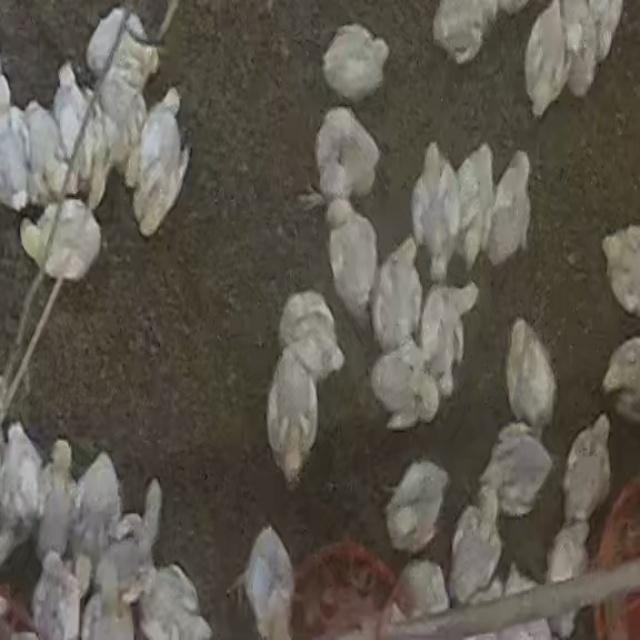chicken: (136, 92, 196, 234), (268, 348, 326, 488), (19, 199, 102, 280), (309, 104, 380, 198), (276, 291, 342, 392), (383, 457, 450, 555), (240, 522, 296, 637), (73, 450, 124, 574), (484, 429, 554, 519), (368, 342, 436, 434), (504, 317, 557, 434), (322, 200, 376, 312), (559, 417, 613, 528), (411, 144, 454, 280), (485, 149, 533, 268), (448, 503, 502, 606), (373, 239, 421, 354), (140, 564, 212, 640), (522, 2, 568, 119), (1, 424, 45, 544), (36, 440, 76, 570), (326, 28, 394, 100), (458, 144, 497, 269), (424, 282, 478, 368), (432, 1, 499, 64), (52, 68, 90, 158), (26, 103, 64, 180), (548, 518, 593, 583), (591, 0, 625, 62)
